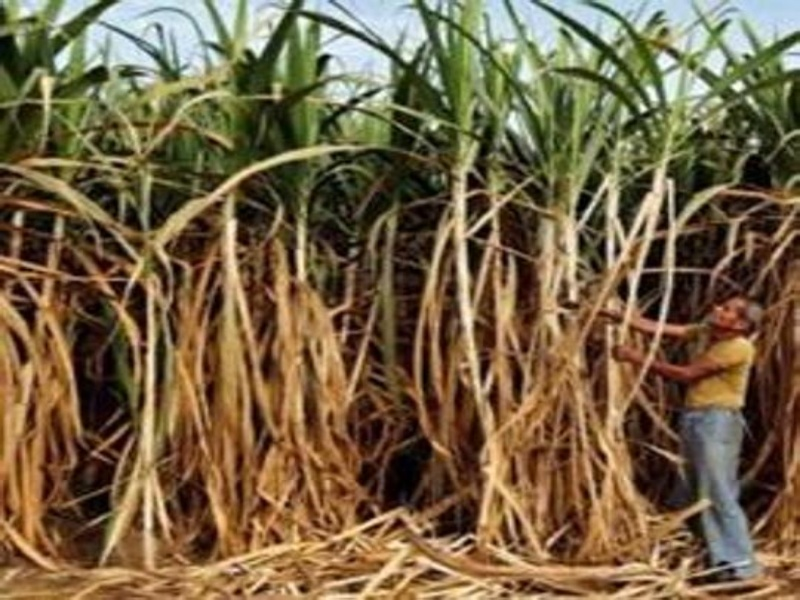sugarcane: (1, 1, 607, 573)
